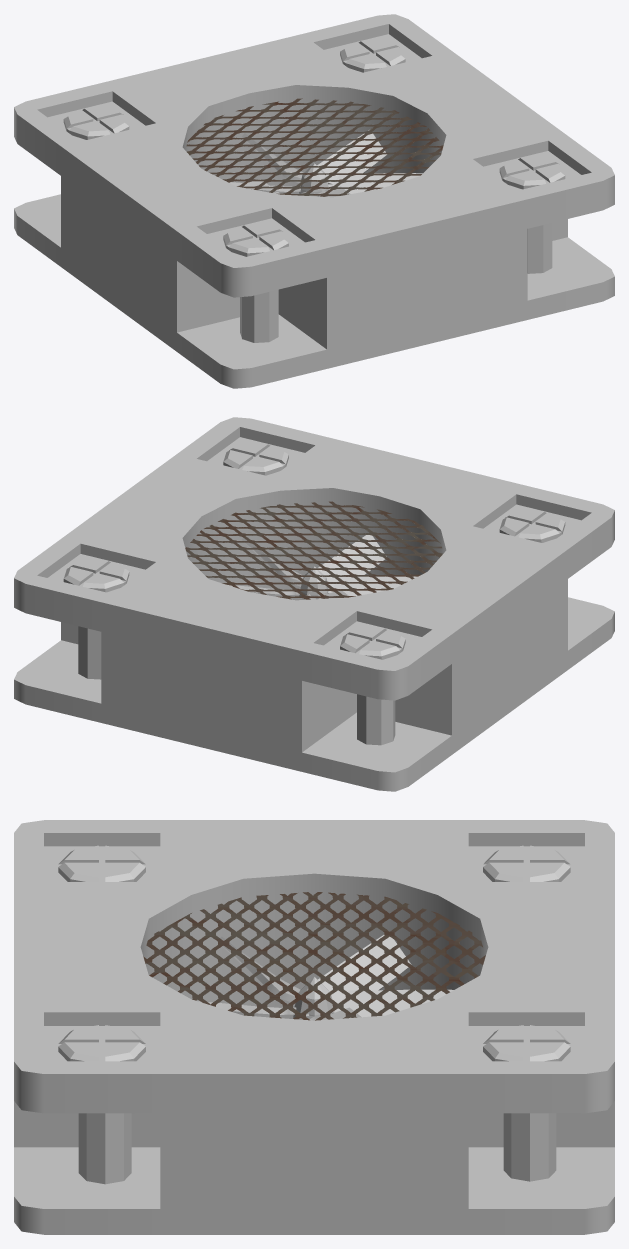
Rendered from movingPlatform.fbx.
3 views of the same model, one above another, from view 1: azimuth 30°, elevation 25°; view 2: azimuth 150°, elevation 25°; view 3: azimuth 270°, elevation 25° (orthographic). The views are drawn at different scales.
Visible parts, largest first — view 1: fanCasing, grateTop, pCylinder99, polySurface12, polySurface13, polySurface14, polySurface5, pCylinder96, fan4, fan5; view 2: fanCasing, grateTop, pCylinder98, polySurface13, polySurface12, polySurface5, polySurface14, pCylinder97, fan6, fan1; view 3: fanCasing, grateTop, pCylinder96, pCylinder97, polySurface12, polySurface13, polySurface5, polySurface14, fan2, fan3, fan1, fanTip.
Part boxes in pixels (x1,y1,x2,y2): fanCasing: [14, 14, 614, 388]; grateTop: [186, 98, 443, 196]; pCylinder99: [240, 289, 278, 342]; polySurface12: [499, 157, 565, 189]; polySurface13: [340, 40, 405, 72]; polySurface14: [63, 107, 129, 139]; polySurface5: [223, 224, 288, 256]; pCylinder96: [527, 223, 552, 273]; fan4: [317, 130, 386, 184]; fan5: [328, 173, 422, 193]; fanCasing: [14, 417, 614, 791]; grateTop: [185, 501, 442, 599]; pCylinder98: [357, 694, 395, 745]; polySurface13: [63, 560, 129, 592]; polySurface12: [223, 443, 288, 475]; polySurface5: [499, 510, 565, 542]; polySurface14: [340, 627, 405, 659]; pCylinder97: [78, 626, 101, 679]; fan6: [317, 535, 386, 587]; fan1: [328, 576, 417, 595]; fanCasing: [14, 820, 614, 1234]; grateTop: [143, 892, 485, 1020]; pCylinder96: [78, 1113, 131, 1184]; pCylinder97: [503, 1113, 556, 1181]; polySurface12: [58, 1025, 145, 1061]; polySurface13: [483, 1025, 570, 1061]; polySurface5: [58, 845, 145, 881]; polySurface14: [483, 845, 570, 881]; fan2: [318, 935, 411, 1003]; fan3: [332, 989, 453, 1017]; fan1: [217, 936, 300, 1001]; fanTip: [293, 977, 332, 1019].
Bounding box in the file's own units: 0.9959 × 0.2938 × 0.9959.
